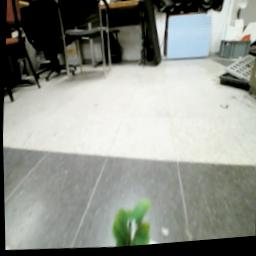herb: (109, 195, 155, 250)
